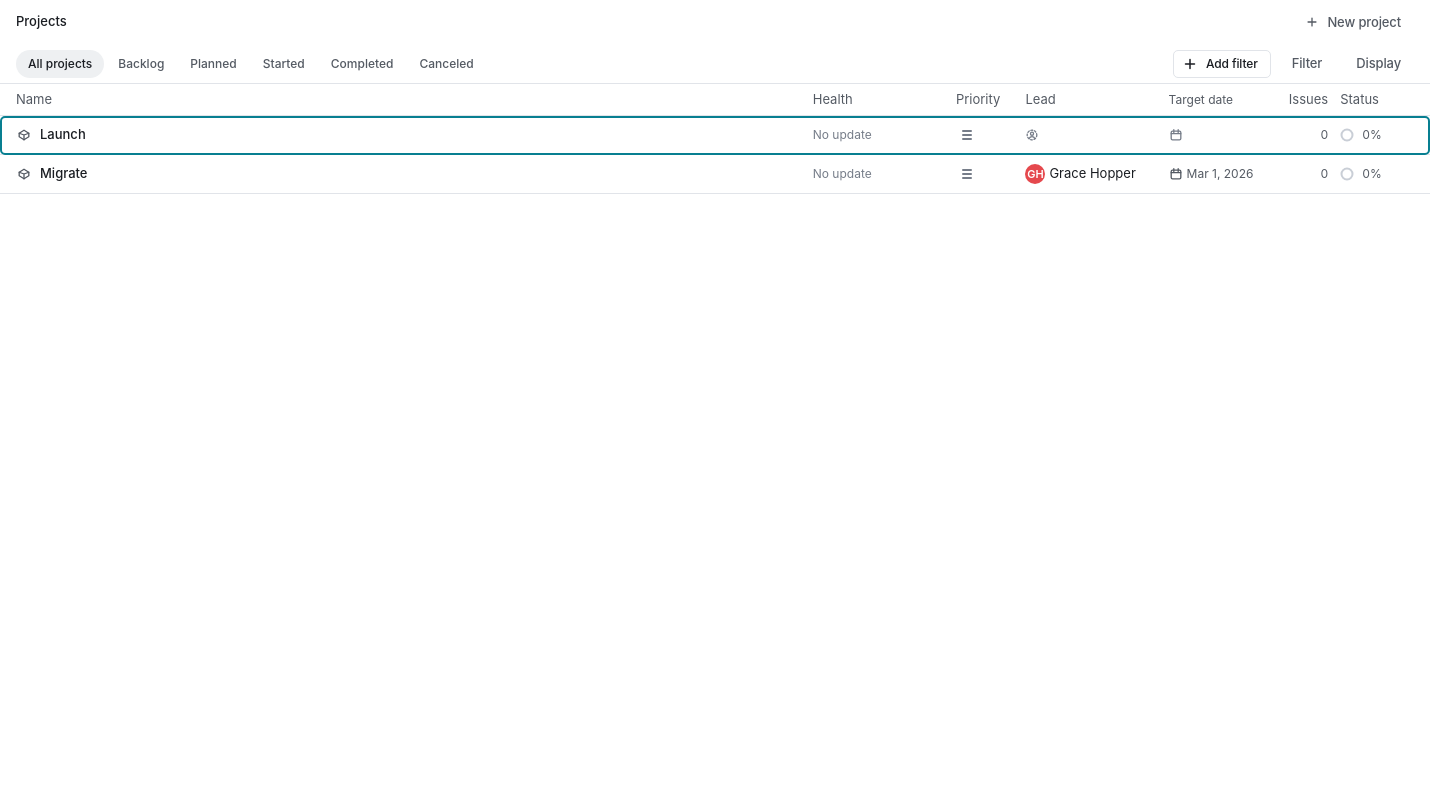
Test: Projects row health › opens the update composer rather than a picker, because health is not a field
Click the button with aria-label "No update posted". click: [842, 135]
box: top-left (809, 122), bottom-right (876, 148)
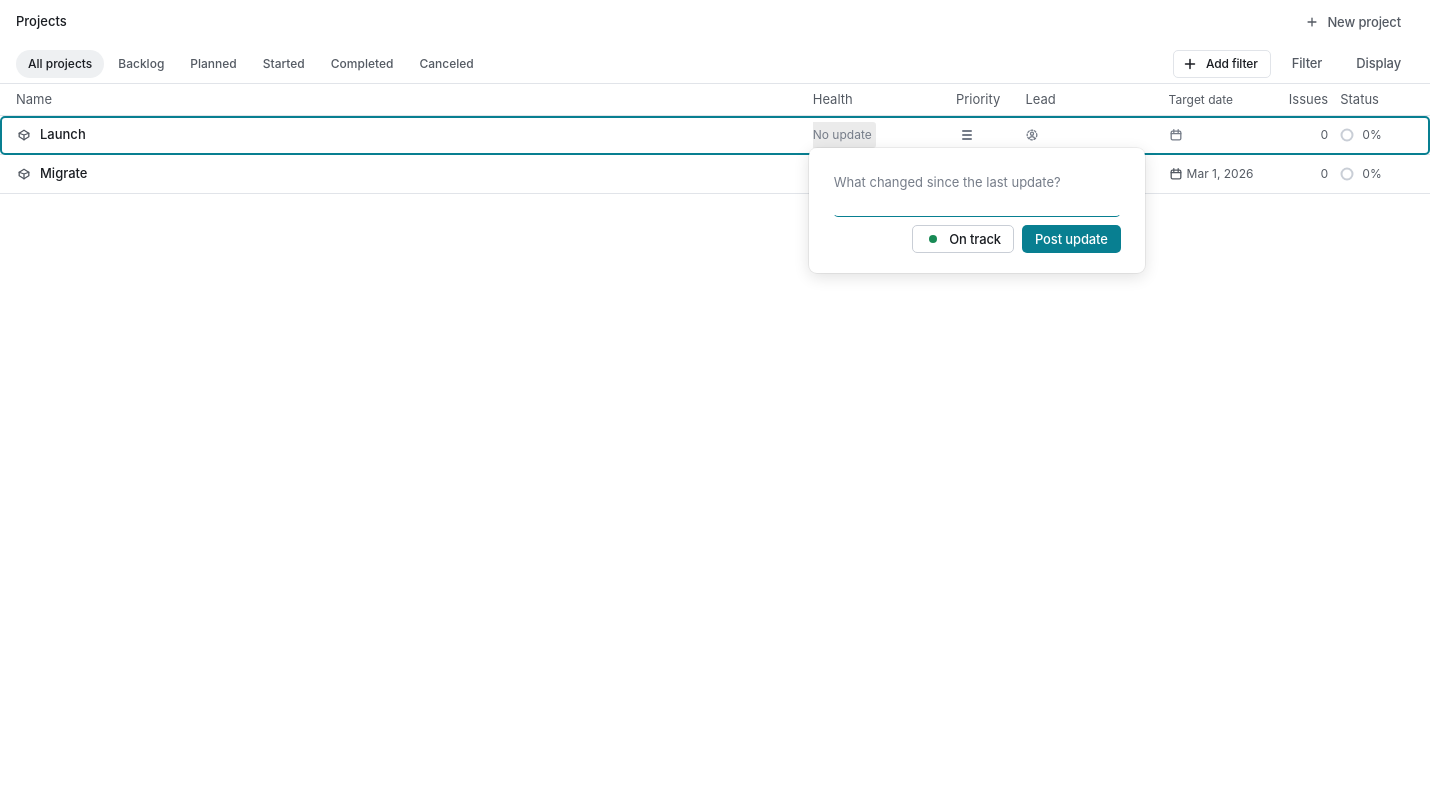
Expected: the dialog named "Project update" is shown, top-left (809, 148), bottom-right (1145, 273)
